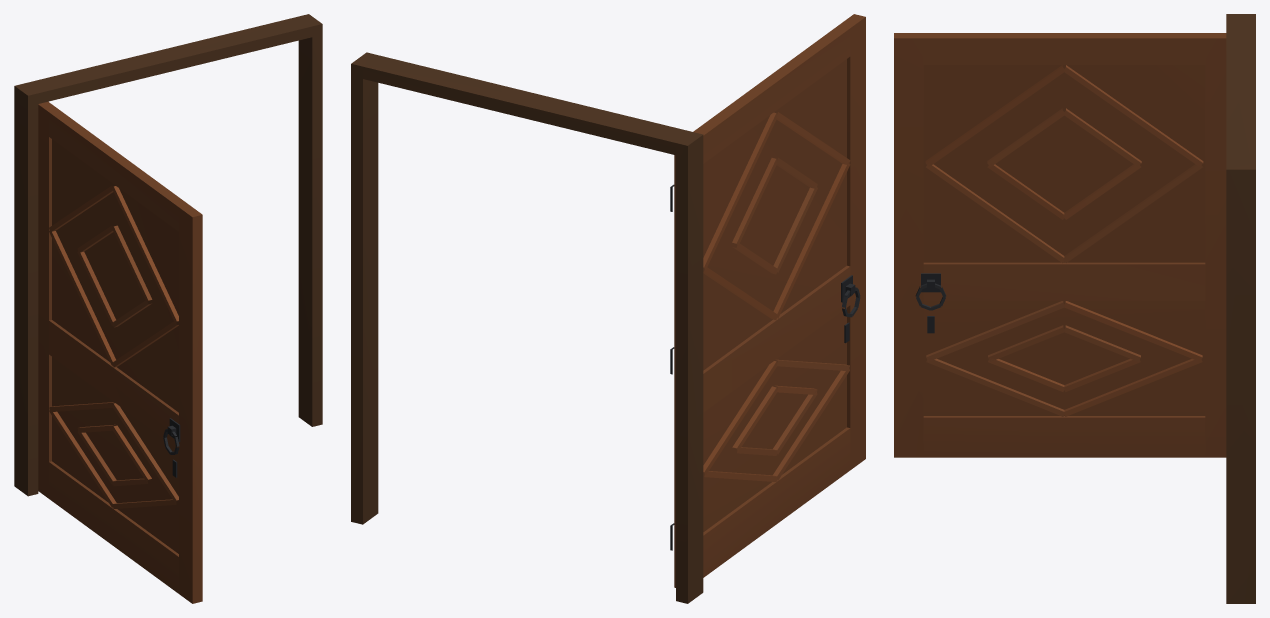
The model's file is door.oak_open.diamond.glb.
3 views of the same model, side by side, from view 1: azimuth 30°, elevation 25°; view 2: azimuth 150°, elevation 25°; view 3: azimuth 270°, elevation 25° (orthographic). The views are drawn at different scales.
Parts seen in each view (by area): view 1: door_oak_open_diamond; view 2: door_oak_open_diamond; view 3: door_oak_open_diamond.
Boxes of the visible parts, x1,y1,x2,y2 form: door_oak_open_diamond: (14,14,322,603); door_oak_open_diamond: (351,14,865,603); door_oak_open_diamond: (894,14,1255,603).
Size of what is drawn, in the model's own units: 2 by 2.6 by 1.96.
